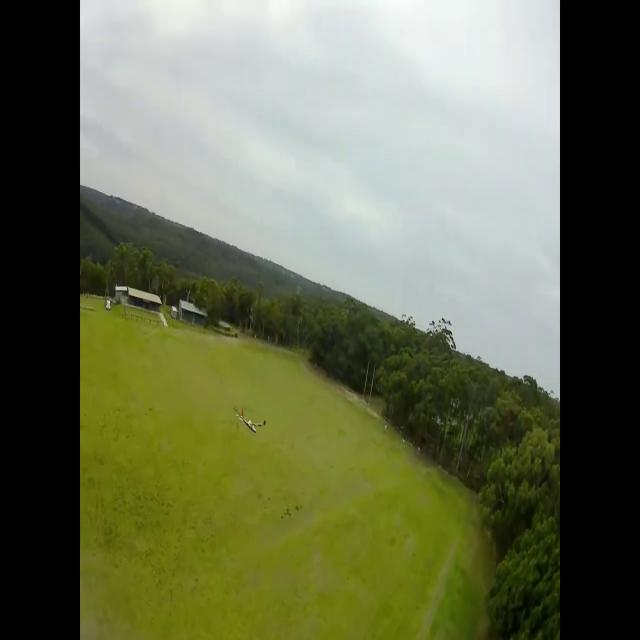iha: (234, 405, 266, 435)
